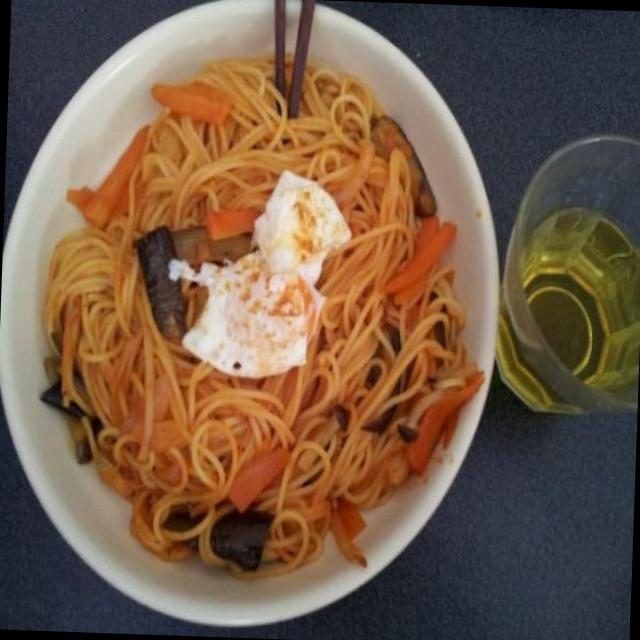Pasta: (44, 51, 472, 560)
